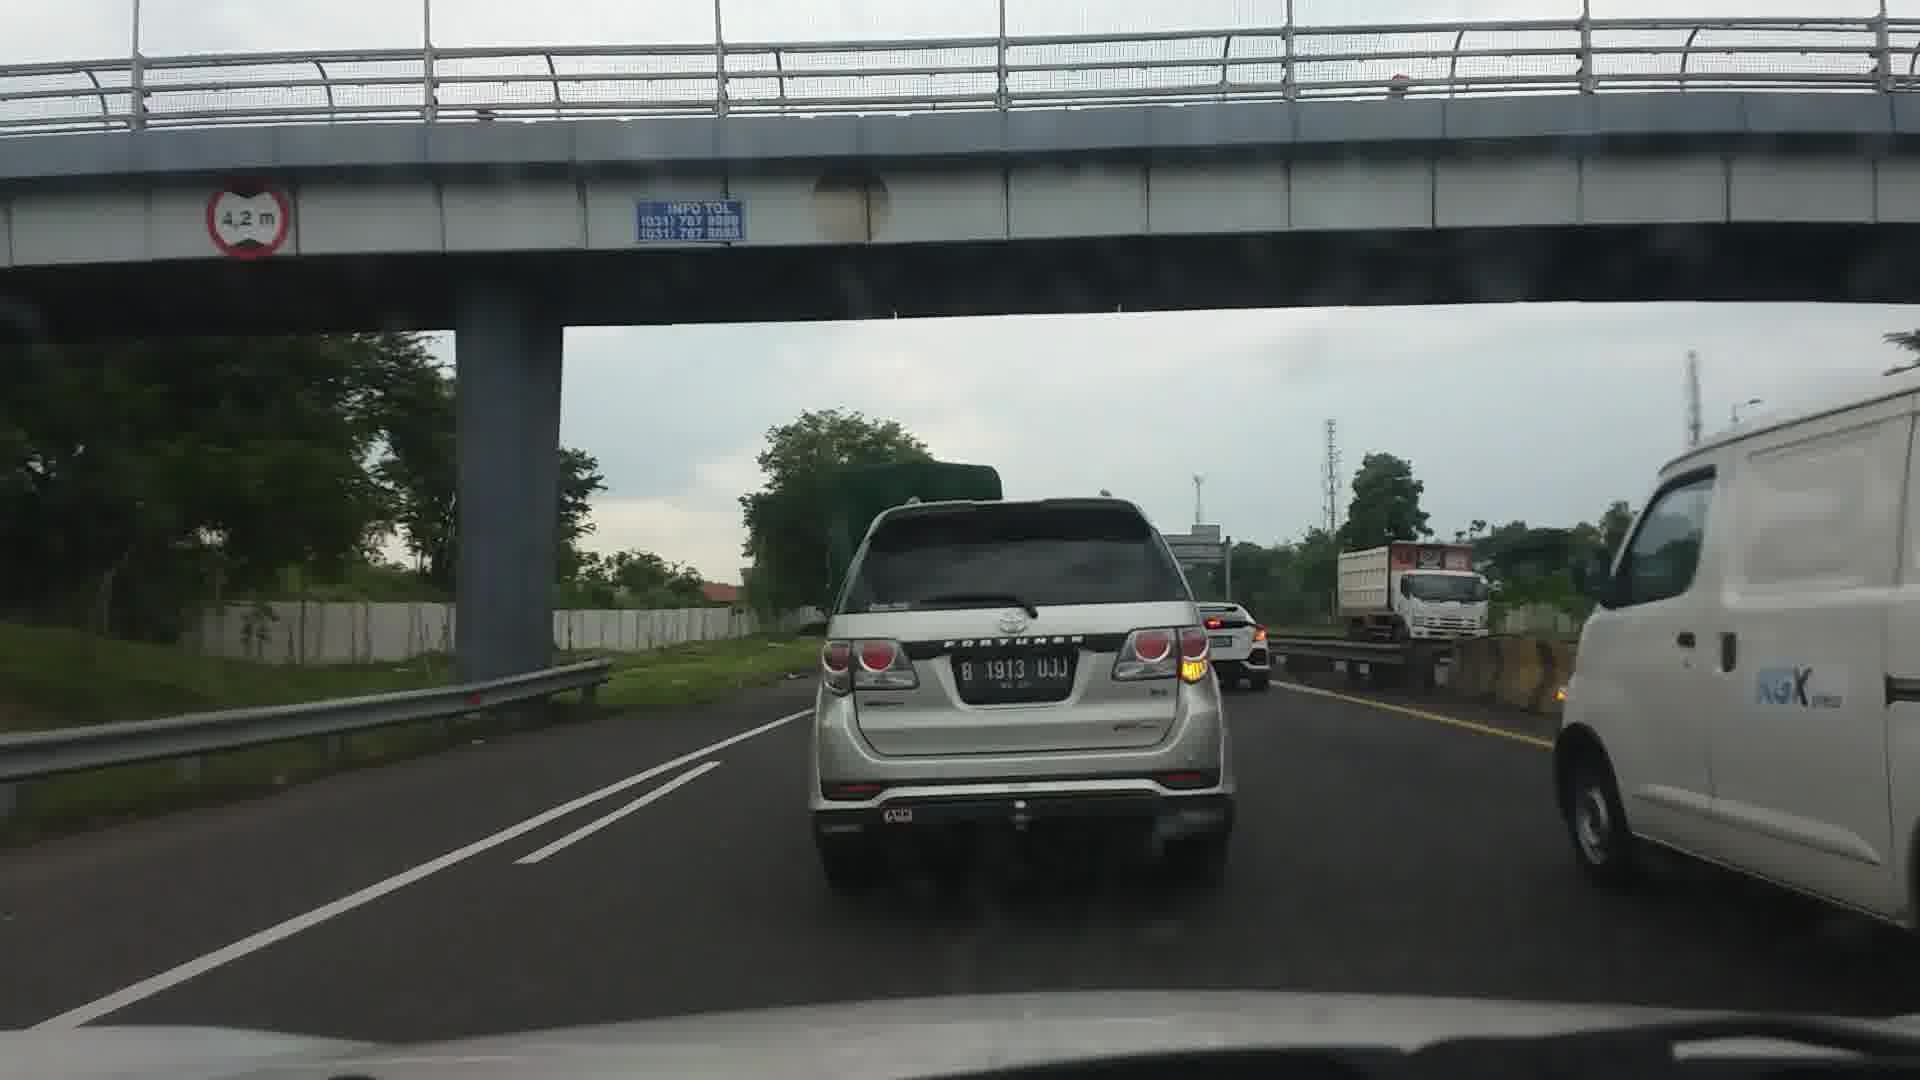plate_positive: (957, 653, 1072, 690)
